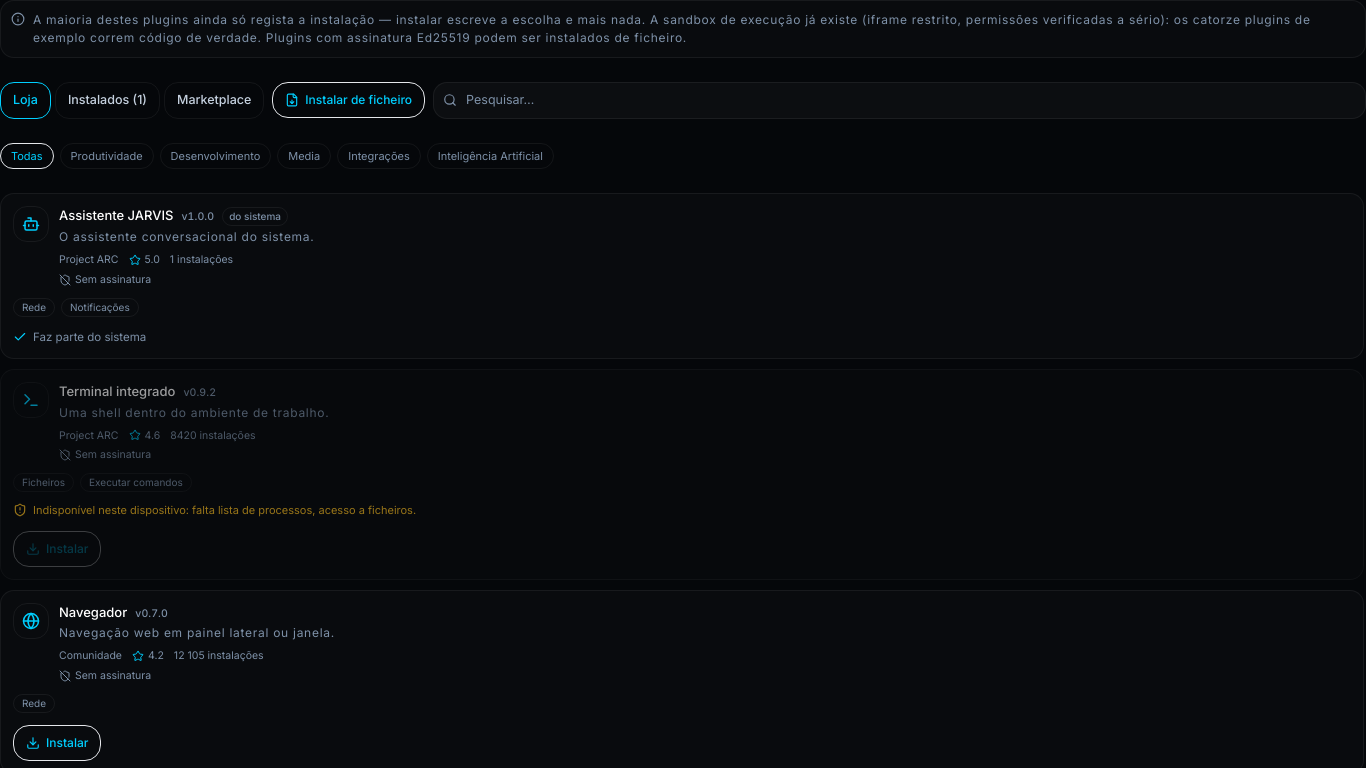
Test case: Marketplace — esboço › lista todas as entradas de exemplo
Click the tab "Marketplace".
click(214, 100)  # box [164,82,264,119]
(page scrolled)
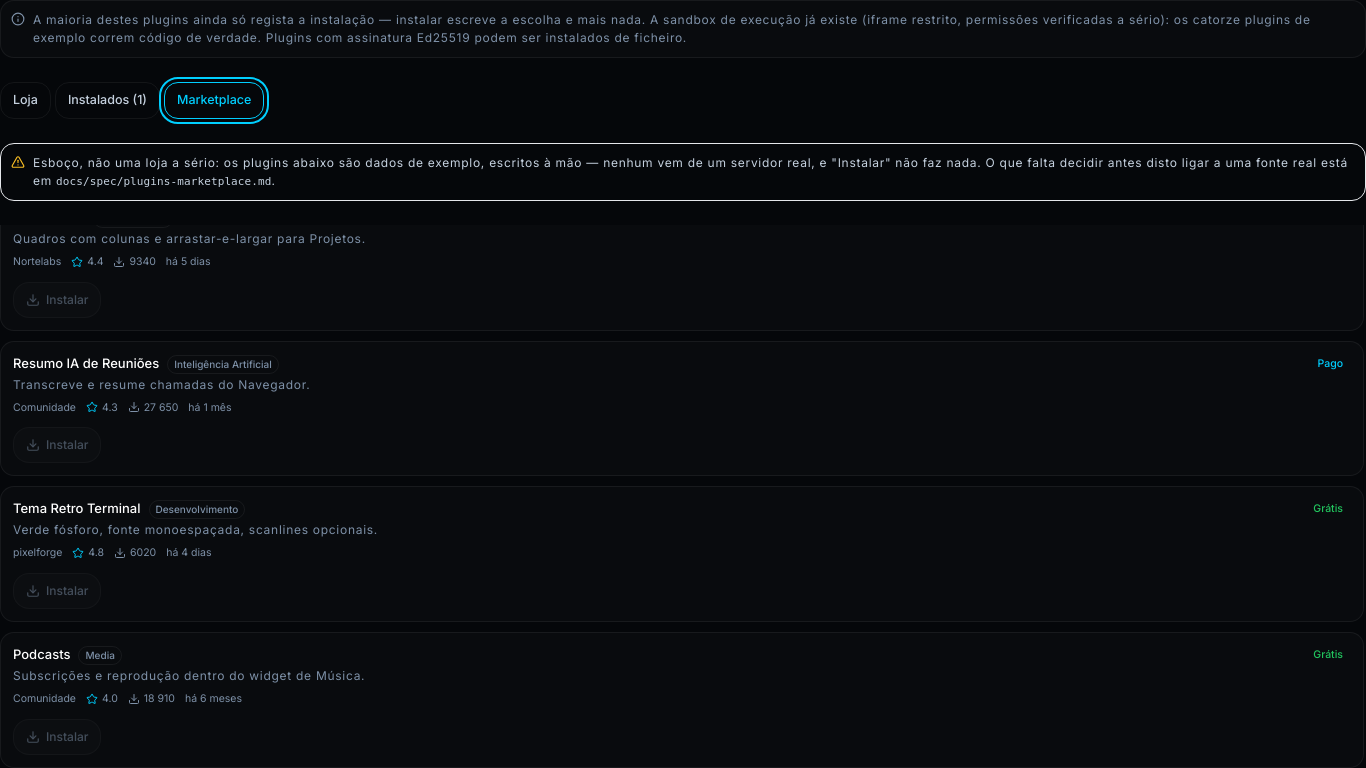
Result: the text "Resumo IA de Reuniões" is shown at [13,354,159,370]
Result: the text "Tema Retro Terminal" is shown at [13,500,140,516]
Result: the text "Podcasts" is shown at [13,646,70,662]
